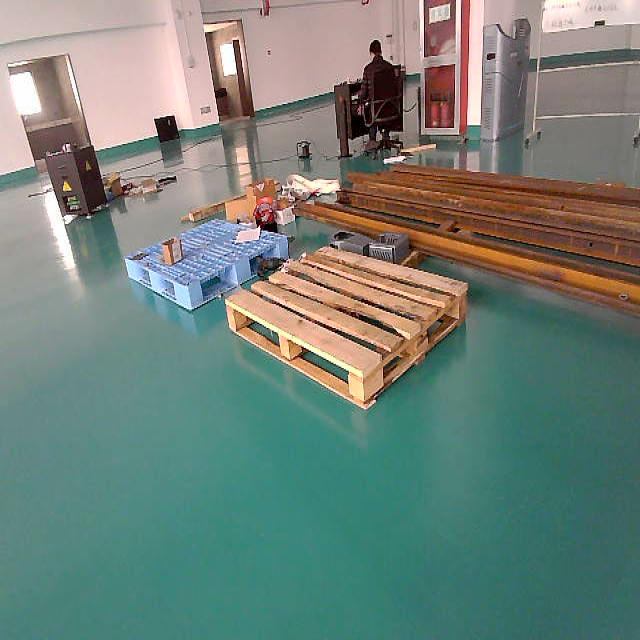euro: (226, 245, 470, 412)
